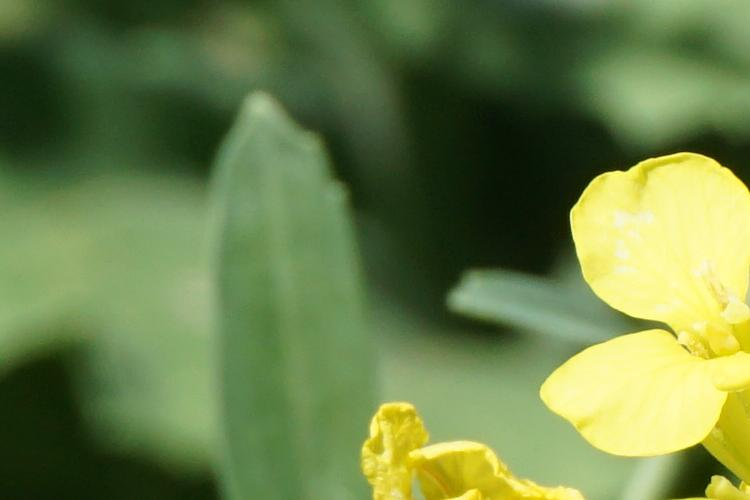yellow: (562, 142, 750, 467), (353, 407, 554, 500)
